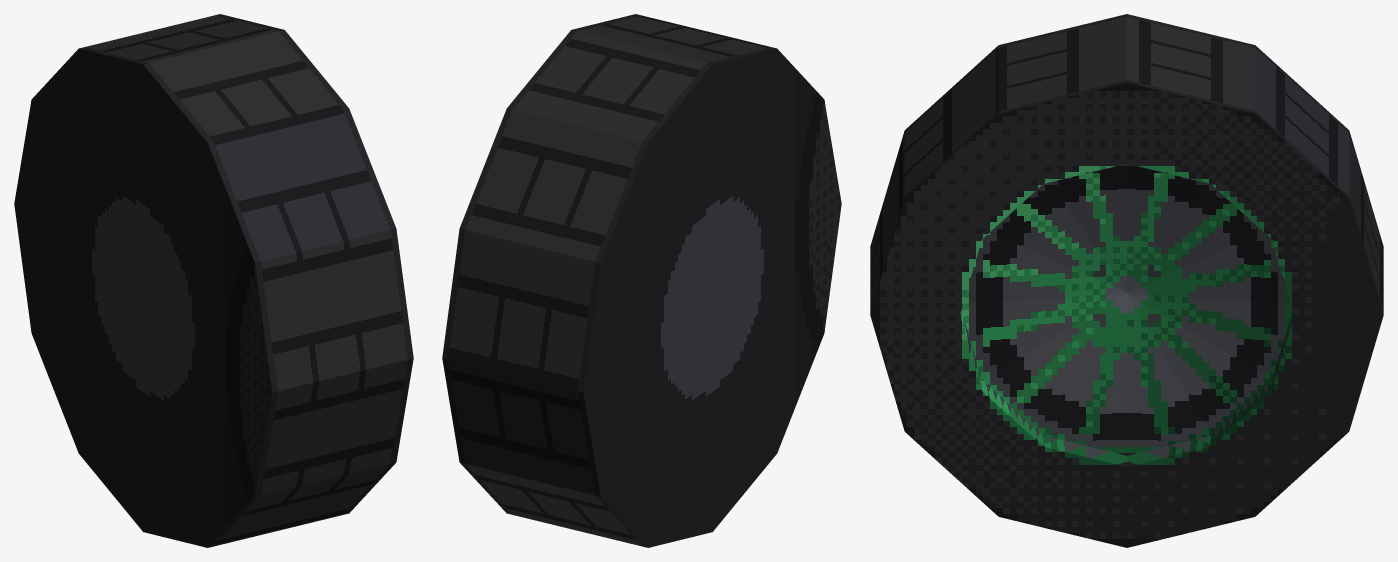
Rendered from wheel_rally.glb.
3 renders of one model, left to right at view 1: azimuth 30°, elevation 25°; view 2: azimuth 150°, elevation 25°; view 3: azimuth 270°, elevation 25°, orthographic.
Visible parts, largest first — view 1: wheel_rally; view 2: wheel_rally; view 3: wheel_rally.
Part boxes in pixels (x1,y1,x2,y2): wheel_rally: (14, 14, 413, 547); wheel_rally: (442, 14, 841, 547); wheel_rally: (870, 14, 1383, 547).
Size of the model in its own units: 0.185 by 0.5845 by 0.5845.
Materials: 1 (1 with a texture image).
